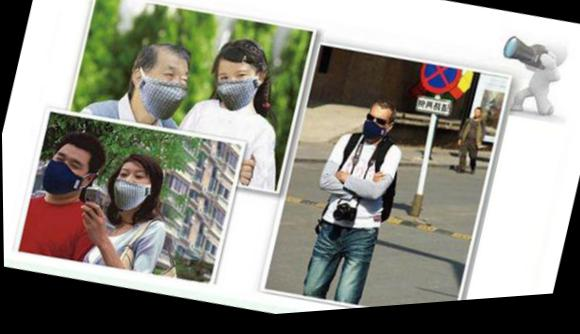NONE: (473, 117, 481, 127)
OK: (137, 60, 193, 127), (209, 60, 262, 116), (39, 147, 89, 204), (361, 115, 394, 151)
WRONG: (108, 163, 154, 218)
